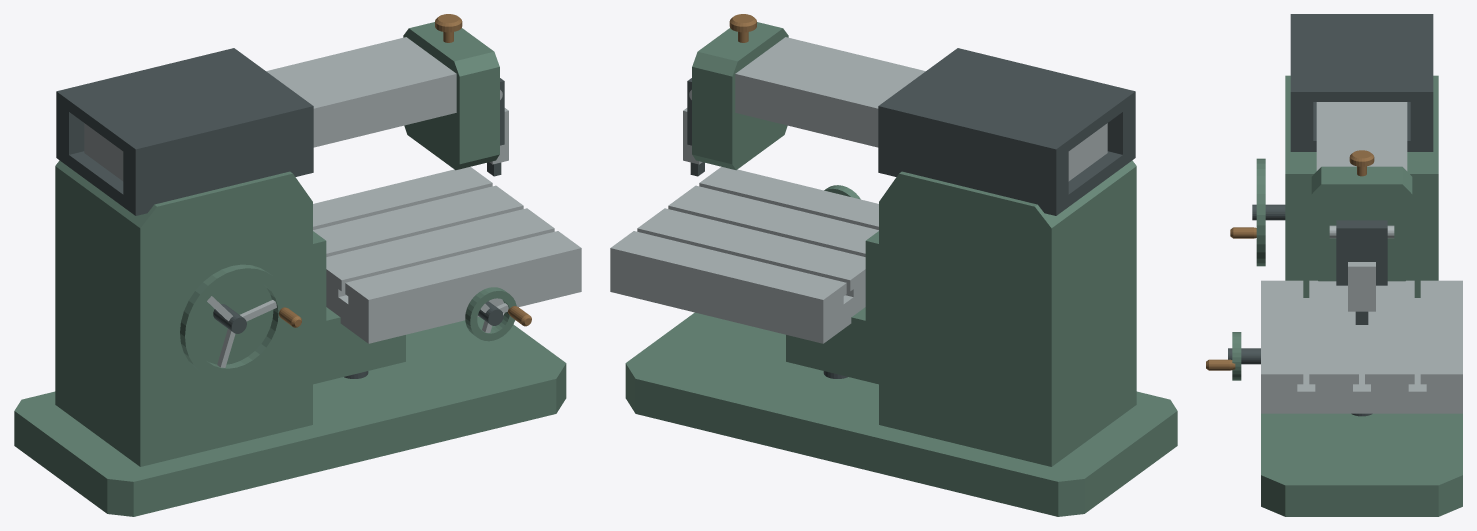
3 views of the same model, side by side, from view 1: azimuth 30°, elevation 25°; view 2: azimuth 150°, elevation 25°; view 3: azimuth 270°, elevation 25° (orthographic). The views are drawn at different scales.
Visible parts, largest first — view 1: WholeTallRearBoxColumn, WholeLowCastGroundBase, WholeThreeTChannelBoxTable, WholeRectangularRamGuide, WholeLongHorizontalRam, WholeFrontVerticalToolSlide, WholeFrontLiftingKnee, ColumnSideWheelRim, TableCrossFeedWheelRim; view 2: WholeTallRearBoxColumn, WholeLowCastGroundBase, WholeThreeTChannelBoxTable, WholeRectangularRamGuide, WholeLongHorizontalRam, WholeFrontVerticalToolSlide, WholeFrontLiftingKnee; view 3: WholeThreeTChannelBoxTable, WholeLowCastGroundBase, WholeRectangularRamGuide, WholeTallRearBoxColumn, WholeFrontVerticalToolSlide, WholeLongHorizontalRam, WholeFixedClapperBox, WholeFixedToolHolder, ColumnSideWheelRim, TableCrossFeedWheelRim, WholeUpperToolSlideAdjuster, ColumnSideWheelHub (+3 smaller).
Part boxes in pixels (x1,y1,x2,y2): WholeTallRearBoxColumn: (55,160,312,466); WholeLowCastGroundBase: (14,317,566,516); WholeThreeTChannelBoxTable: (313,166,581,343); WholeRectangularRamGuide: (56,48,313,215); WholeLongHorizontalRam: (84,37,456,181); WholeFrontVerticalToolSlide: (403,22,499,170); WholeFrontLiftingKnee: (313,231,405,384); ColumnSideWheelRim: (180,264,288,379); TableCrossFeedWheelRim: (465,287,516,341); WholeTallRearBoxColumn: (879,160,1136,466); WholeLowCastGroundBase: (625,312,1177,516); WholeThreeTChannelBoxTable: (610,166,878,343); WholeRectangularRamGuide: (878,48,1135,215); WholeLongHorizontalRam: (735,37,1107,181); WholeFrontVerticalToolSlide: (692,22,788,170); WholeFrontLiftingKnee: (786,231,878,384); WholeThreeTChannelBoxTable: (1261,280,1462,413); WholeLowCastGroundBase: (1261,413,1462,516); WholeRectangularRamGuide: (1290,14,1433,151); WholeTallRearBoxColumn: (1285,75,1438,297); WholeFrontVerticalToolSlide: (1311,166,1412,281); WholeLongHorizontalRam: (1316,102,1407,170); WholeFixedClapperBox: (1336,220,1387,285); WholeFixedToolHolder: (1348,262,1375,311); ColumnSideWheelRim: (1256,158,1265,266); TableCrossFeedWheelRim: (1232,332,1241,380); WholeUpperToolSlideAdjuster: (1349,150,1374,176); ColumnSideWheelHub: (1252,204,1285,220).
Size of the model in its own units: 1.38 by 1.04 by 0.738.
